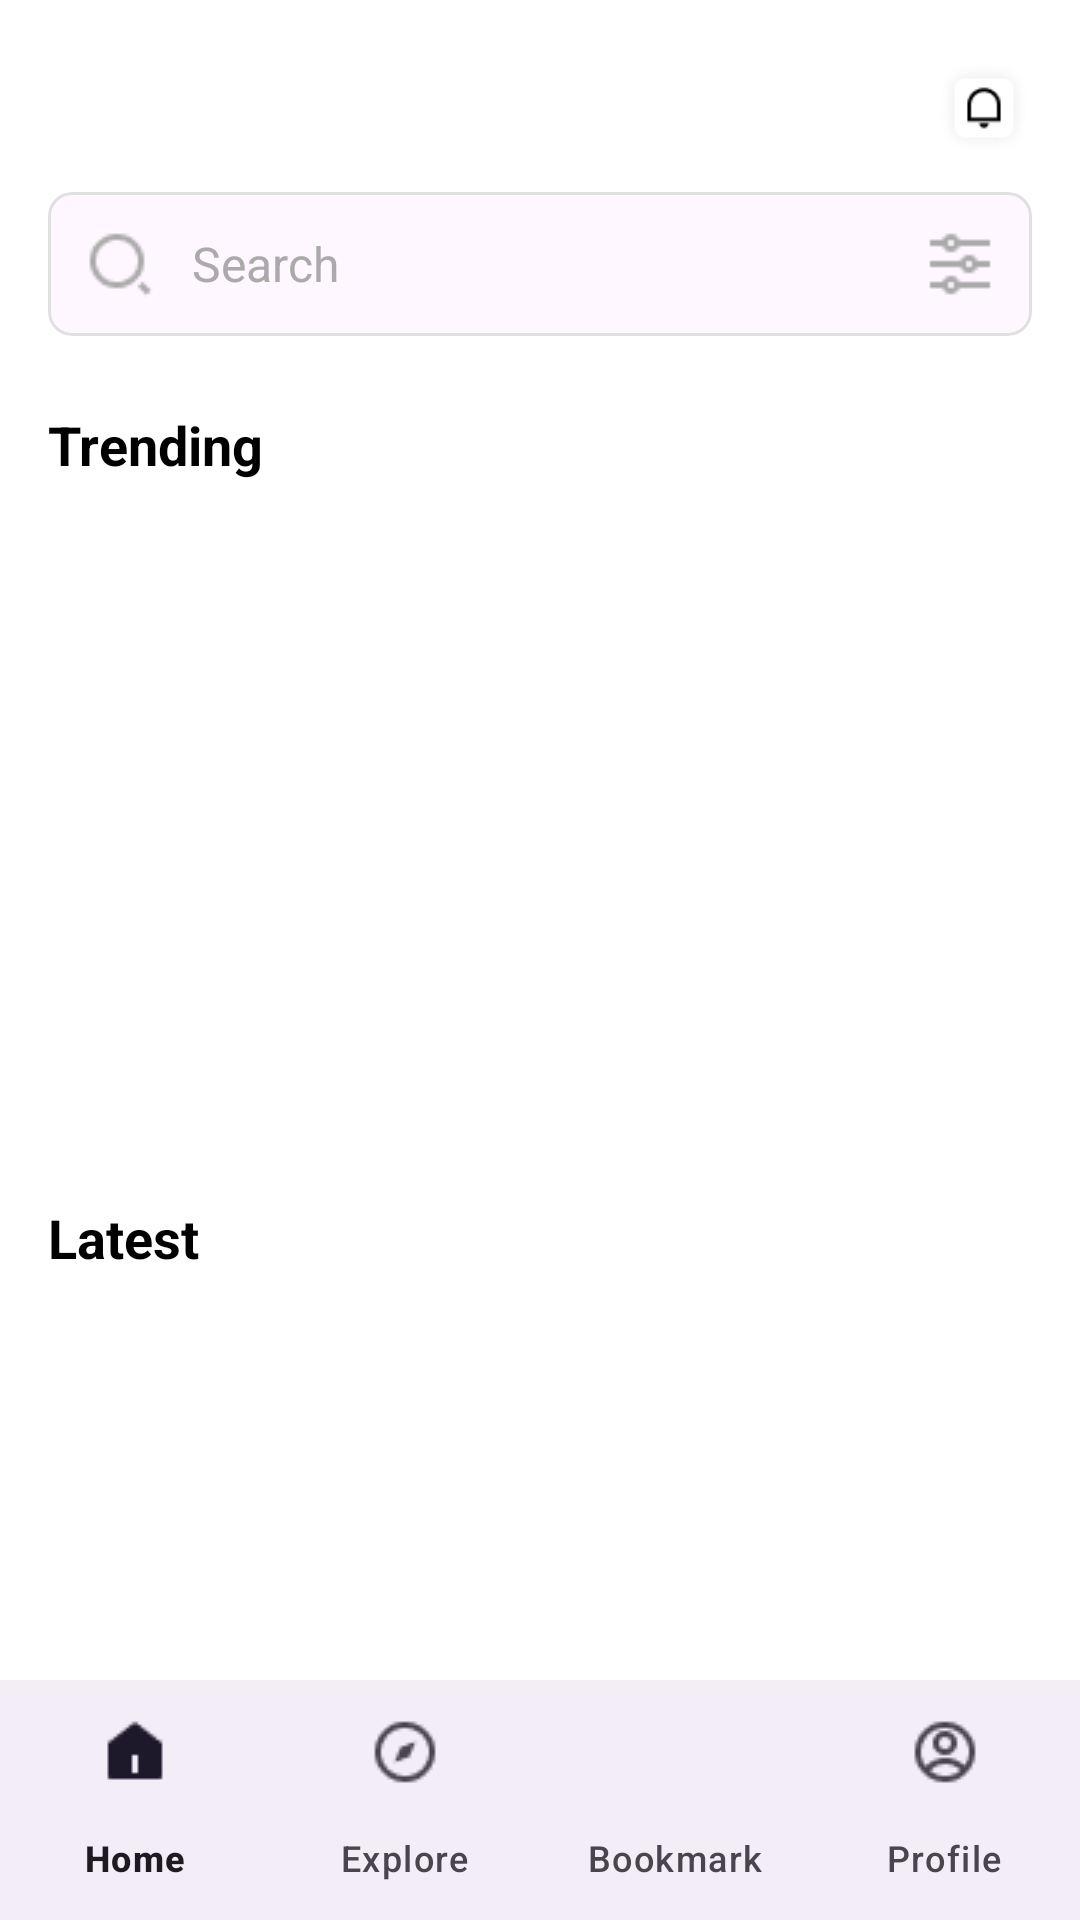

Icon bounding boxes for this 1080*1920 phone screenshot, format (x1, y1, x2, y2):
filter: (929, 233, 991, 295)
Notifications: (967, 87, 1001, 129)
